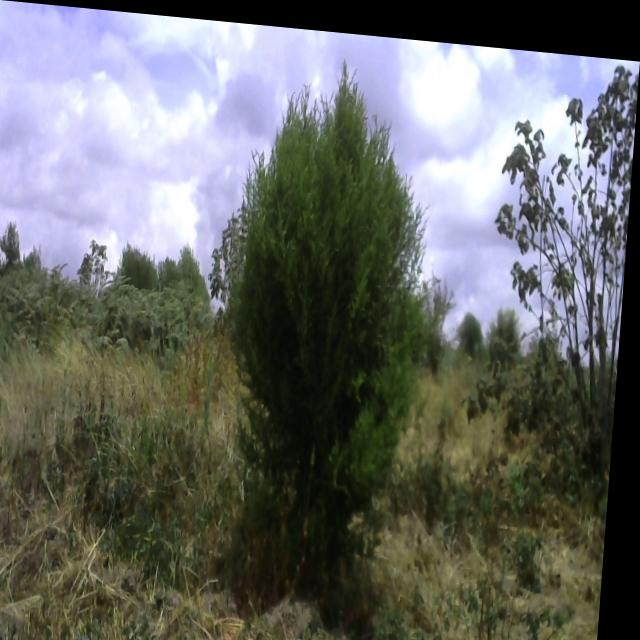cedrus: (224, 51, 445, 569)
other: (483, 49, 639, 468)
